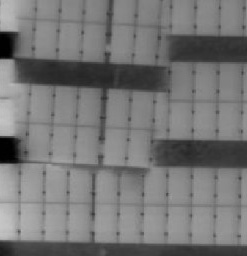solar: (16, 161, 46, 204), (41, 161, 71, 204), (63, 161, 93, 204), (92, 161, 122, 204), (115, 163, 145, 206), (140, 164, 170, 207), (165, 164, 195, 207), (187, 164, 217, 207), (213, 165, 243, 208), (16, 199, 46, 242), (40, 199, 70, 242), (64, 200, 94, 243), (90, 200, 120, 243), (114, 201, 144, 244), (140, 201, 170, 244), (162, 201, 192, 244), (186, 202, 216, 245), (211, 203, 241, 246), (166, 58, 196, 101), (191, 59, 221, 102), (216, 60, 246, 103), (214, 97, 244, 140), (190, 97, 220, 140), (166, 97, 196, 140), (127, 88, 157, 131), (103, 87, 133, 130), (73, 85, 103, 128), (49, 84, 79, 127), (25, 82, 55, 125), (100, 124, 130, 167), (122, 125, 152, 168), (71, 123, 101, 166), (46, 122, 76, 165), (24, 122, 54, 165), (30, 16, 60, 59), (54, 19, 84, 62), (79, 19, 109, 62), (106, 21, 136, 64), (131, 23, 161, 66)
